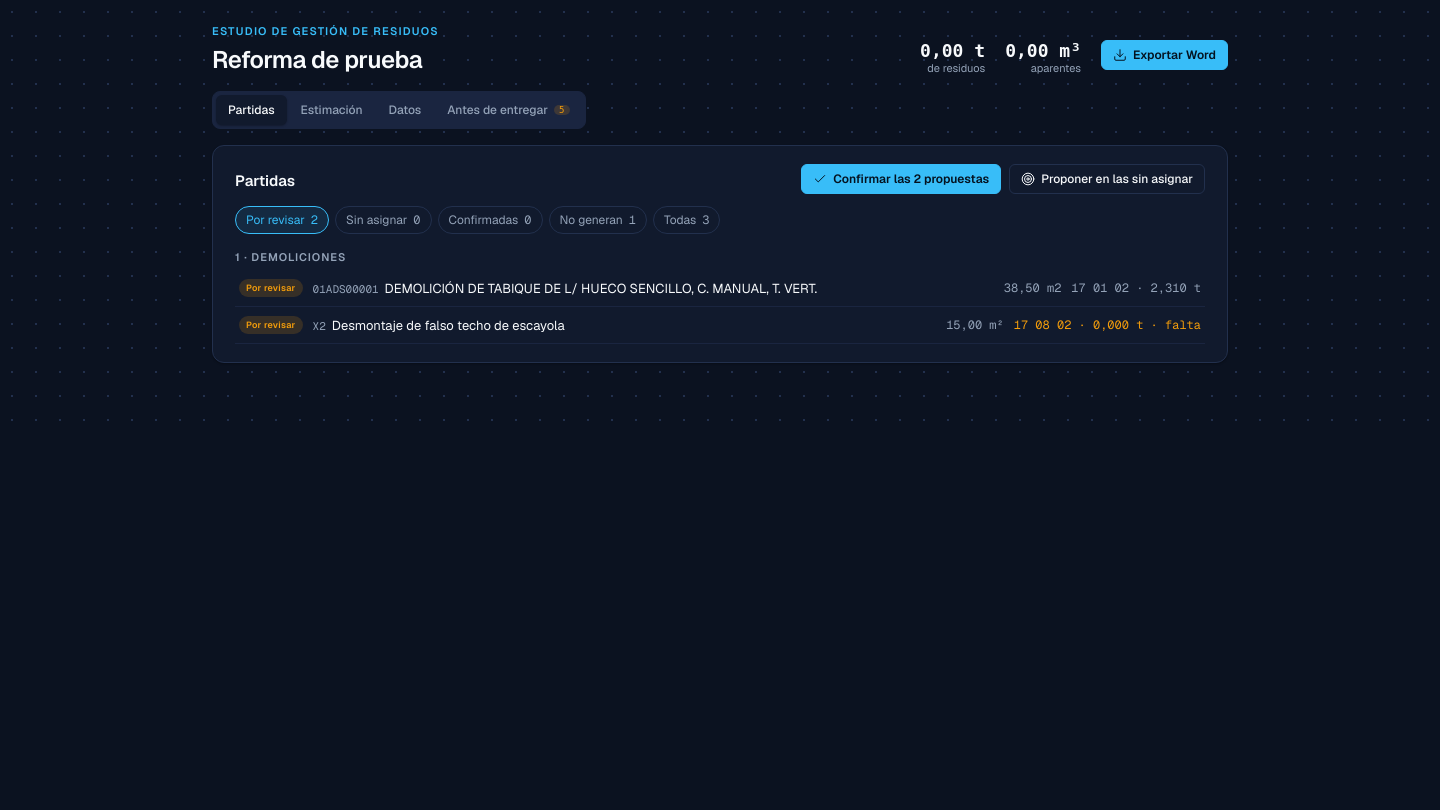
Scenario: vista Residuos › el editor cambia el espesor con Enter y la cuenta se rehace
Click the button "falso techo de escayola". click: (271, 325)
box: x1=235 y1=307 x2=1205 y2=343
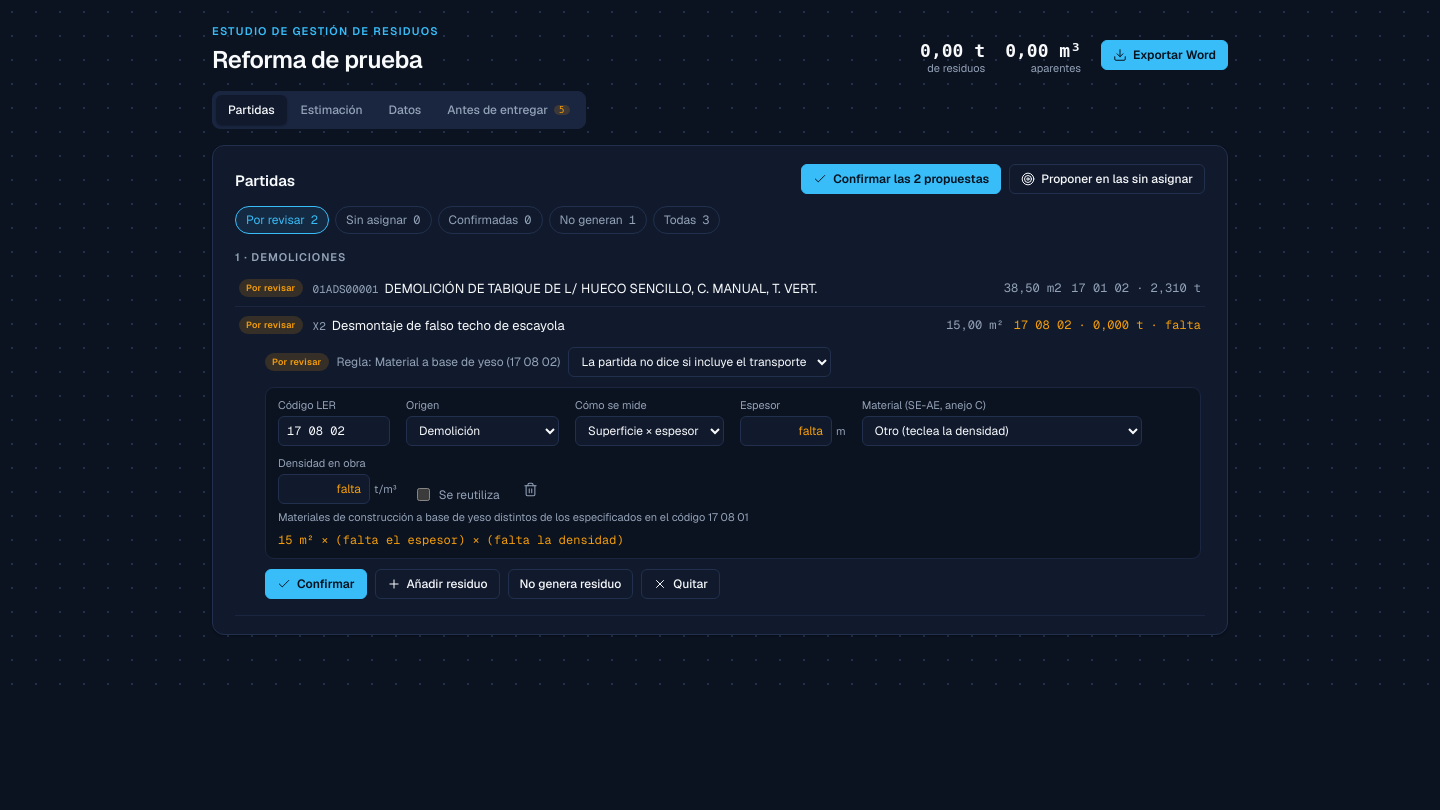
Type "0,02" into the field labelled "Espesor". click: (786, 431)
box: x1=740 y1=416 x2=832 y2=446
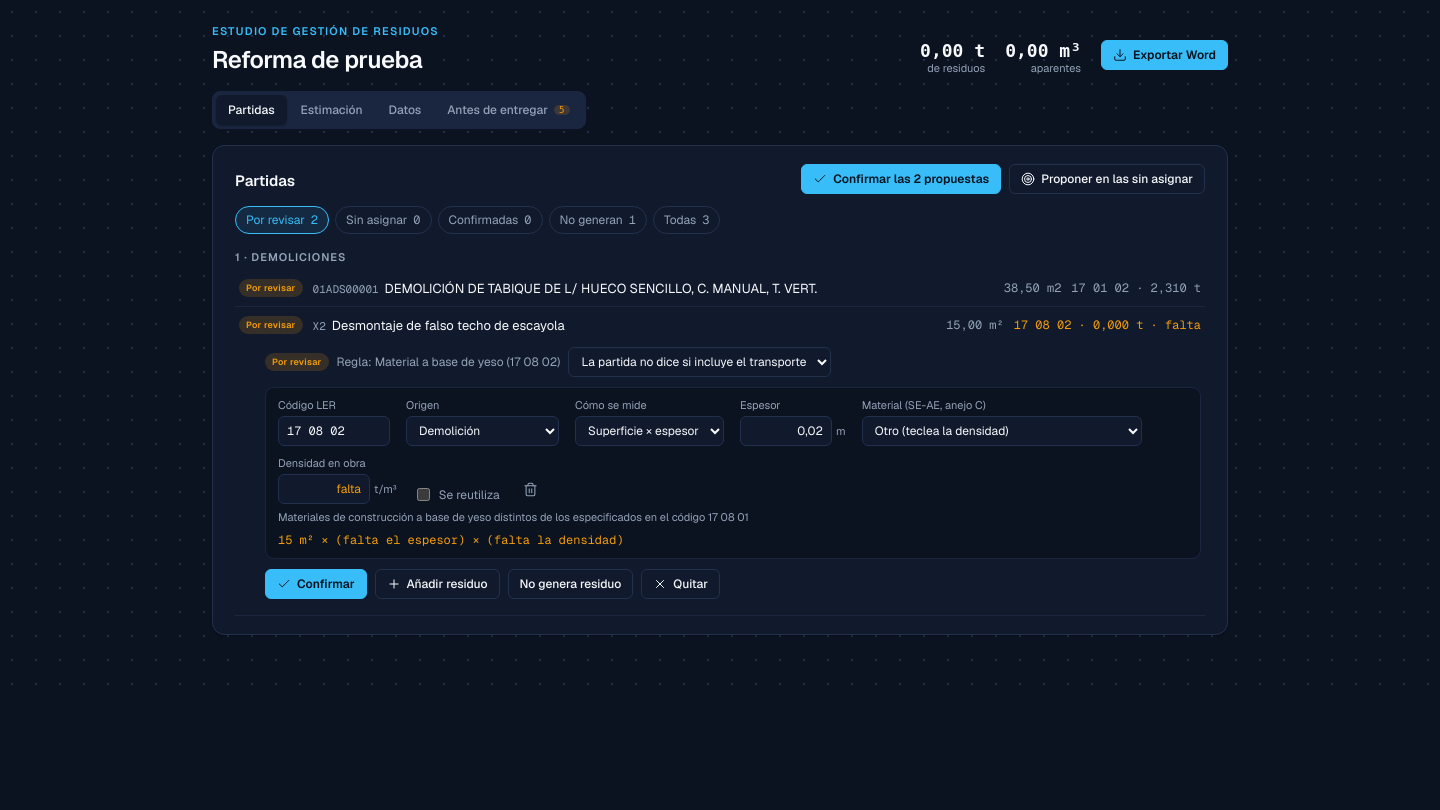
Press Enter in the field labelled "Espesor", box x1=740 y1=416 x2=832 y2=446
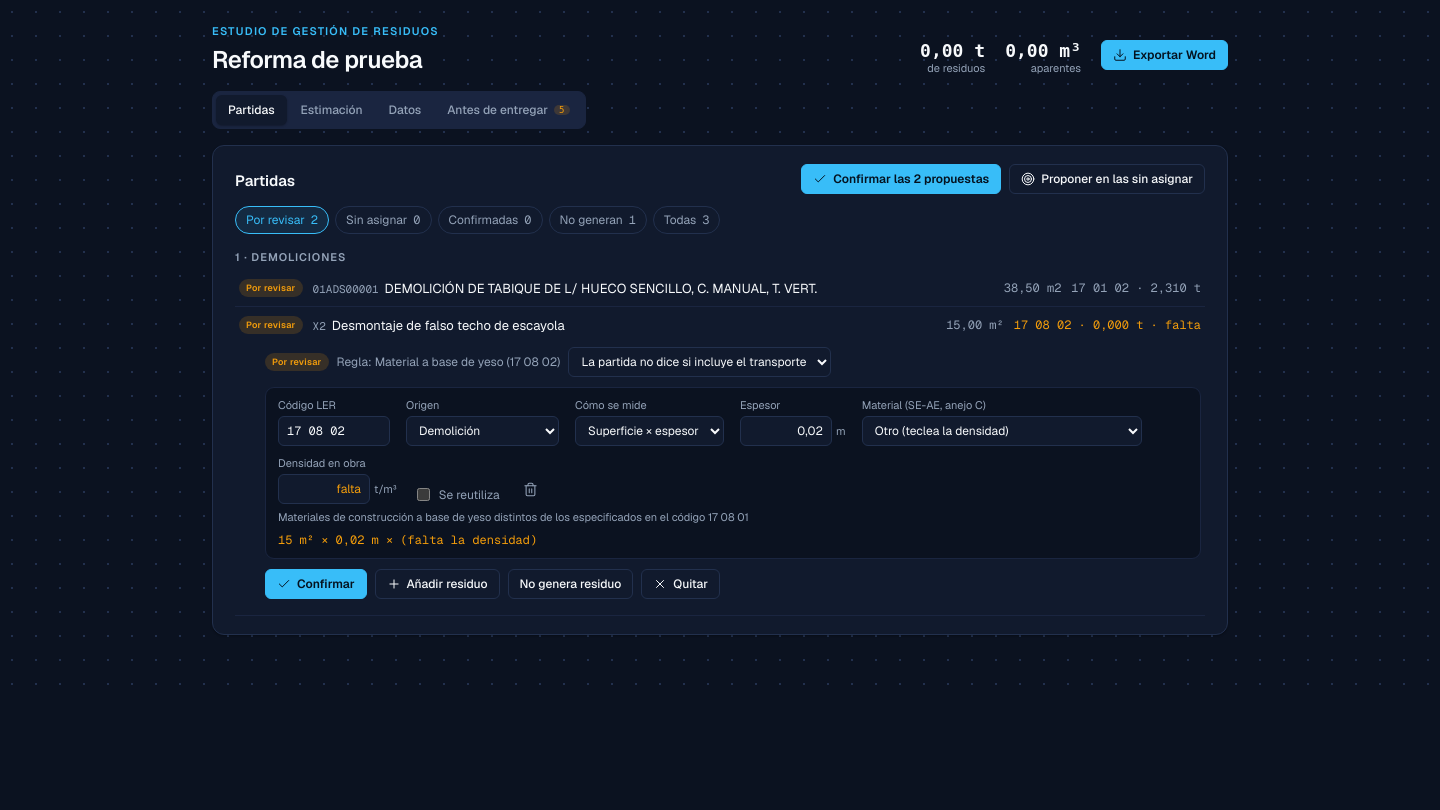
Type "0,9" into the field named "Densidad del material en obra". click: (324, 489)
box: x1=278 y1=474 x2=370 y2=504
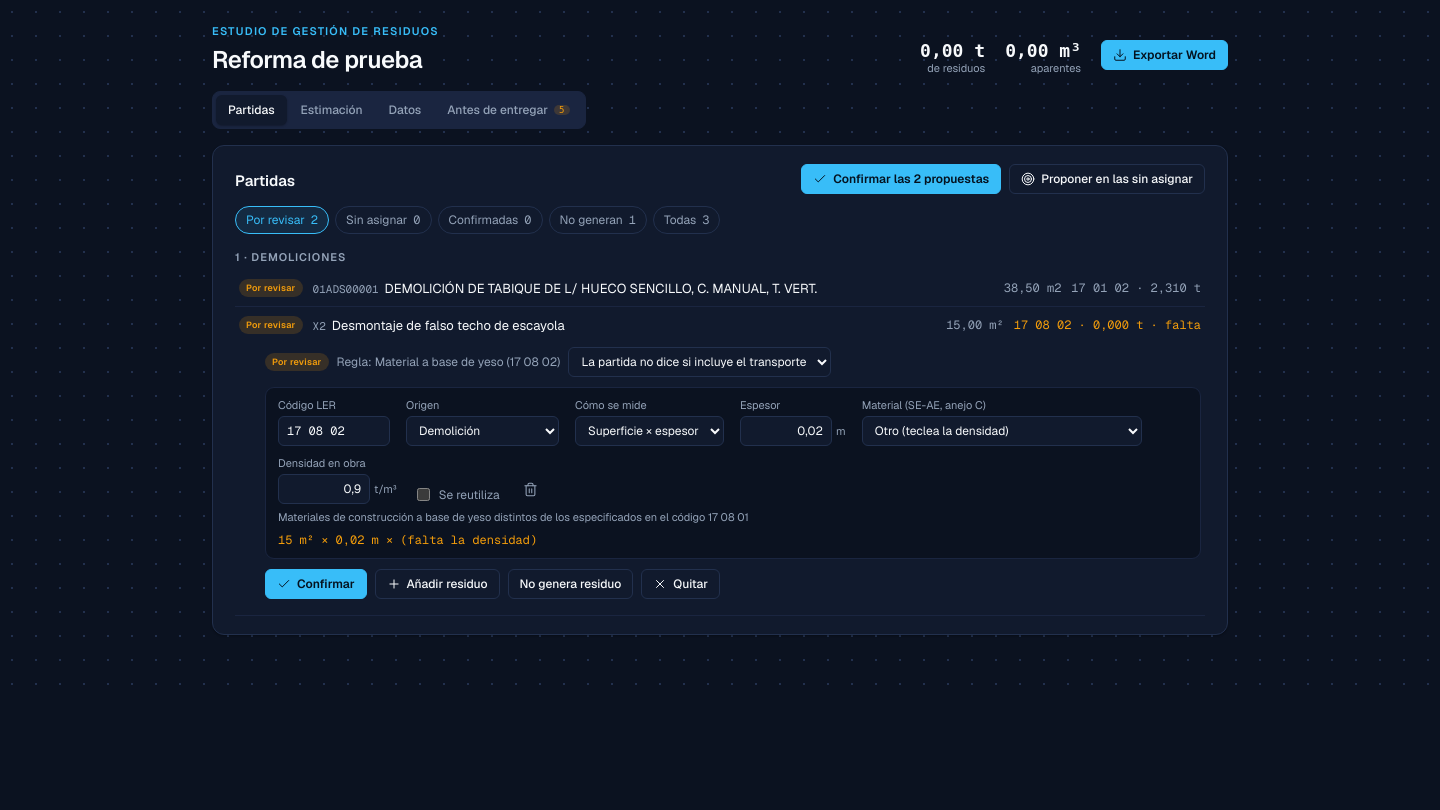
Press Enter in the field named "Densidad del material en obra", box x1=278 y1=474 x2=370 y2=504
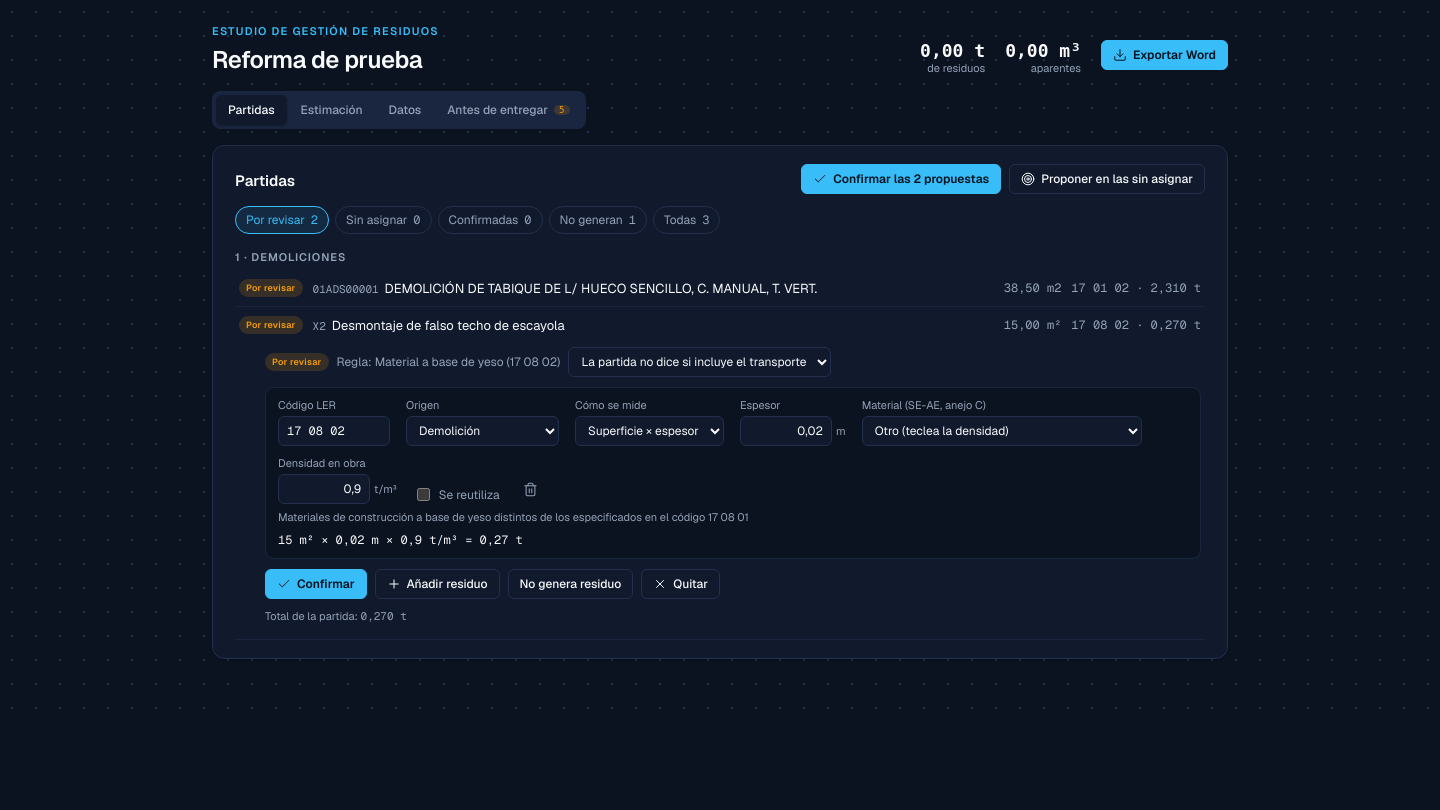
Expected: the text "15 m² × 0,02 m × 0,9 t/m³ = 0,27 t" is shown, x1=278 y1=532 x2=523 y2=548
